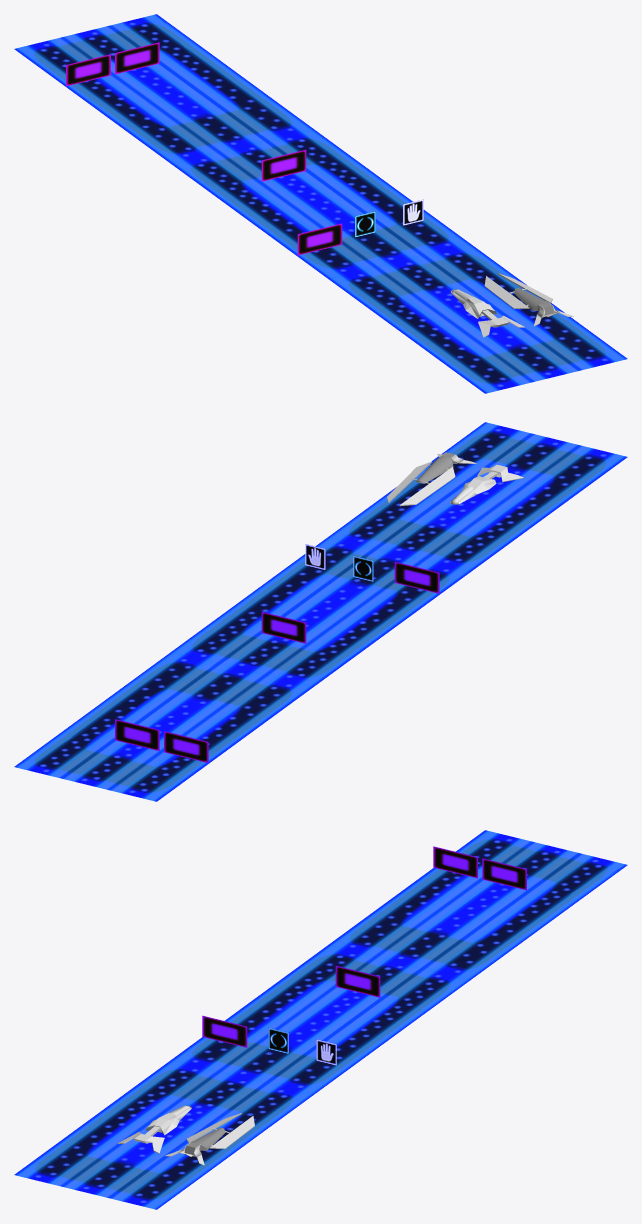
Rendered from alpha.FBX.
The picture shows the model from 3 angles, top to bottom: view 1: azimuth 30°, elevation 25°; view 2: azimuth 150°, elevation 25°; view 3: azimuth 330°, elevation 25°; orthographic projection.
Parts seen in each view (by area): view 1: Plane002, Plane005, Plane006, Plane007, Plane008, Box003, Box001; view 2: Plane002, Plane005, Plane006, Plane007, Plane008, Box003, Box001, Box002; view 3: Plane002, Plane006, Plane005, Plane007, Plane008, Box003, Box001.
Boxes of the visible parts, <box> form: Plane002: <box>14,14,627,393</box>; Plane005: <box>297,223,342,255</box>; Plane006: <box>261,149,306,181</box>; Plane007: <box>115,42,159,74</box>; Plane008: <box>66,54,110,86</box>; Box003: <box>484,273,552,308</box>; Box001: <box>450,289,496,318</box>; Plane002: <box>14,422,627,801</box>; Plane005: <box>394,561,439,593</box>; Plane006: <box>261,612,306,643</box>; Plane007: <box>115,719,159,751</box>; Plane008: <box>164,731,208,762</box>; Box003: <box>387,461,455,506</box>; Box001: <box>450,476,496,504</box>; Box002: <box>416,452,455,483</box>; Plane002: <box>14,830,627,1209</box>; Plane006: <box>335,965,380,997</box>; Plane005: <box>202,1015,247,1047</box>; Plane007: <box>482,858,526,890</box>; Plane008: <box>433,846,477,878</box>; Box003: <box>186,1113,254,1148</box>; Box001: <box>145,1105,191,1135</box>.
Bounding box in the file's own units: 350 × 51.24 × 2000.
